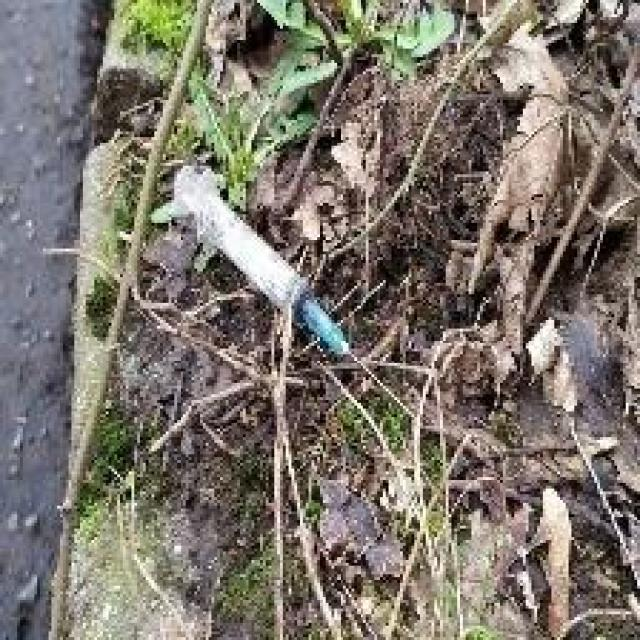syringe: (140, 158, 374, 376)
